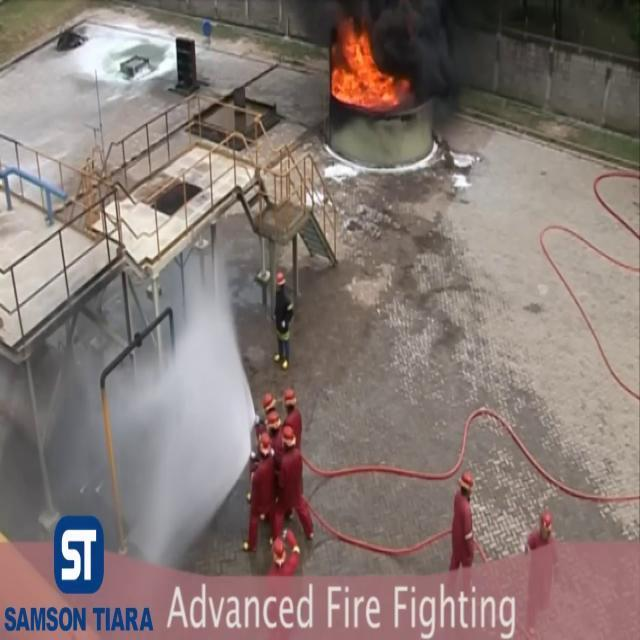Fire: (326, 12, 408, 118)
